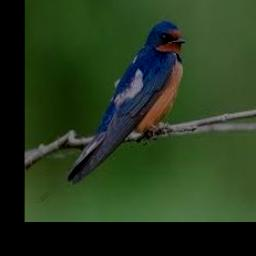Swallow: (66, 22, 186, 183)
